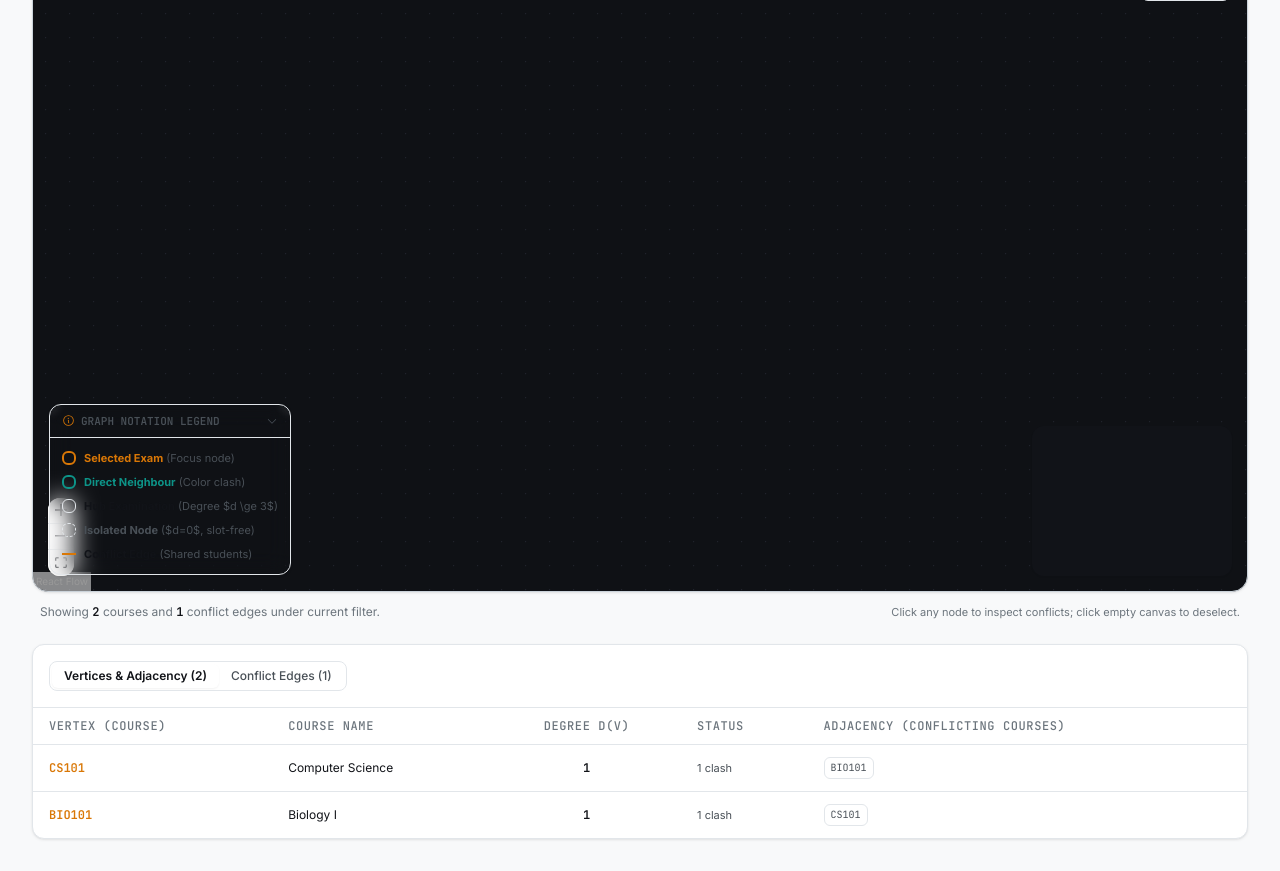
it: Phase 5 Integration Tests › ConflictGraphPage › renders live vertices and conflict edges data summary
The width and height of the screenshot is (1280, 871).
(page scrolled)
Check: the text "Computer Science" is shown, box top-left (272, 744), bottom-right (492, 791)
Check: the text "Biology I" is shown, box top-left (272, 791), bottom-right (492, 838)
// Switch to Conflict Edges tab
Click the button "Conflict Edges (1)". click: (281, 676)
box: top-left (219, 664), bottom-right (344, 688)
(page scrolled)
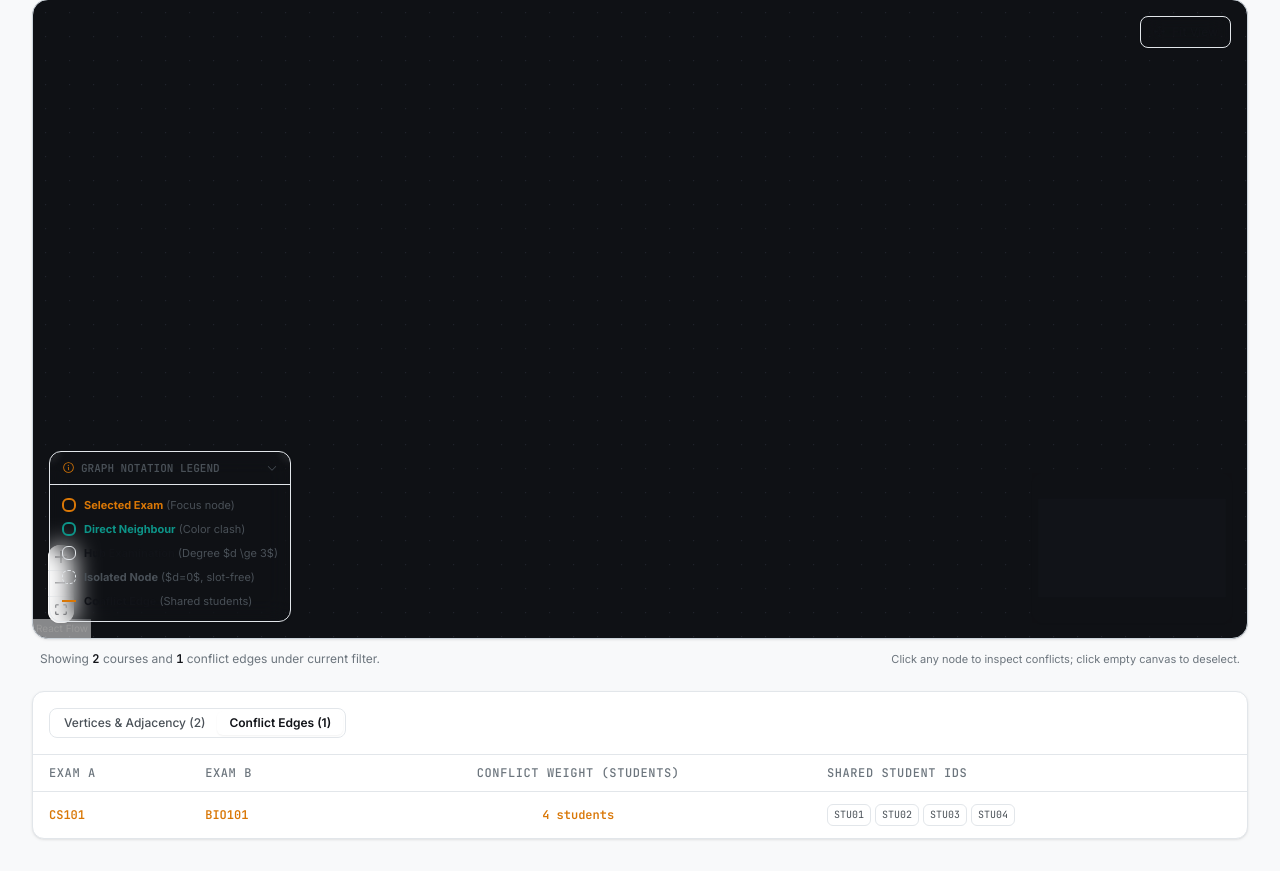
Check: the column heading "Exam A" is shown, box top-left (33, 754), bottom-right (189, 791)
Check: the column heading "Exam B" is shown, box top-left (189, 754), bottom-right (345, 791)
Check: the text "4 students" is shown, box top-left (542, 806), bottom-right (614, 822)
